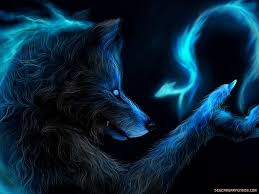Lobo: (2, 13, 155, 146)
